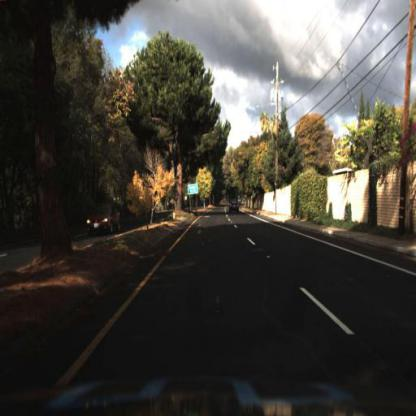car: (87, 204, 122, 238), (230, 201, 240, 215)
